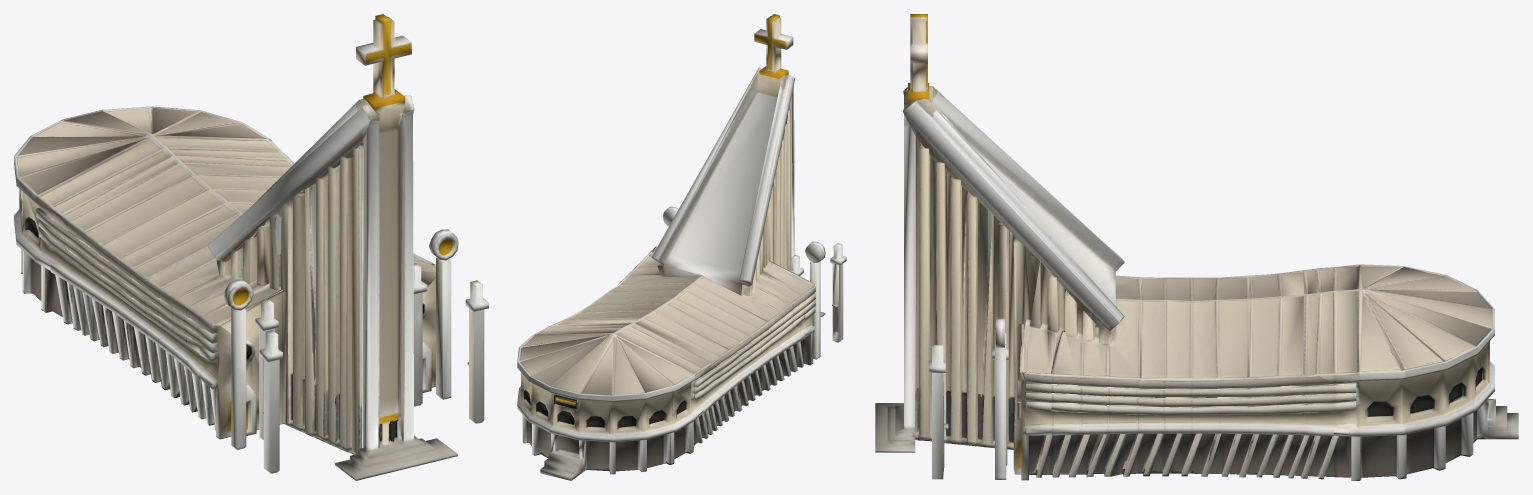
Rendered from tharae.glb.
3 views of the same model, side by side, from view 1: azimuth 30°, elevation 25°; view 2: azimuth 150°, elevation 25°; view 3: azimuth 270°, elevation 25° (orthographic). The views are drawn at different scales.
Visible parts, largest first — view 1: tripo_node_7cb0bd32-b630-4bc1-9cef-ea6993e77a2d; view 2: tripo_node_7cb0bd32-b630-4bc1-9cef-ea6993e77a2d; view 3: tripo_node_7cb0bd32-b630-4bc1-9cef-ea6993e77a2d.
Part boxes in pixels (<box>): tripo_node_7cb0bd32-b630-4bc1-9cef-ea6993e77a2d: <box>14,14,488,480</box>; tripo_node_7cb0bd32-b630-4bc1-9cef-ea6993e77a2d: <box>517,14,846,480</box>; tripo_node_7cb0bd32-b630-4bc1-9cef-ea6993e77a2d: <box>875,14,1518,480</box>.
Bounding box in the file's own units: 0.3969 × 0.696 × 0.9797.
1 material, 1 textured.
